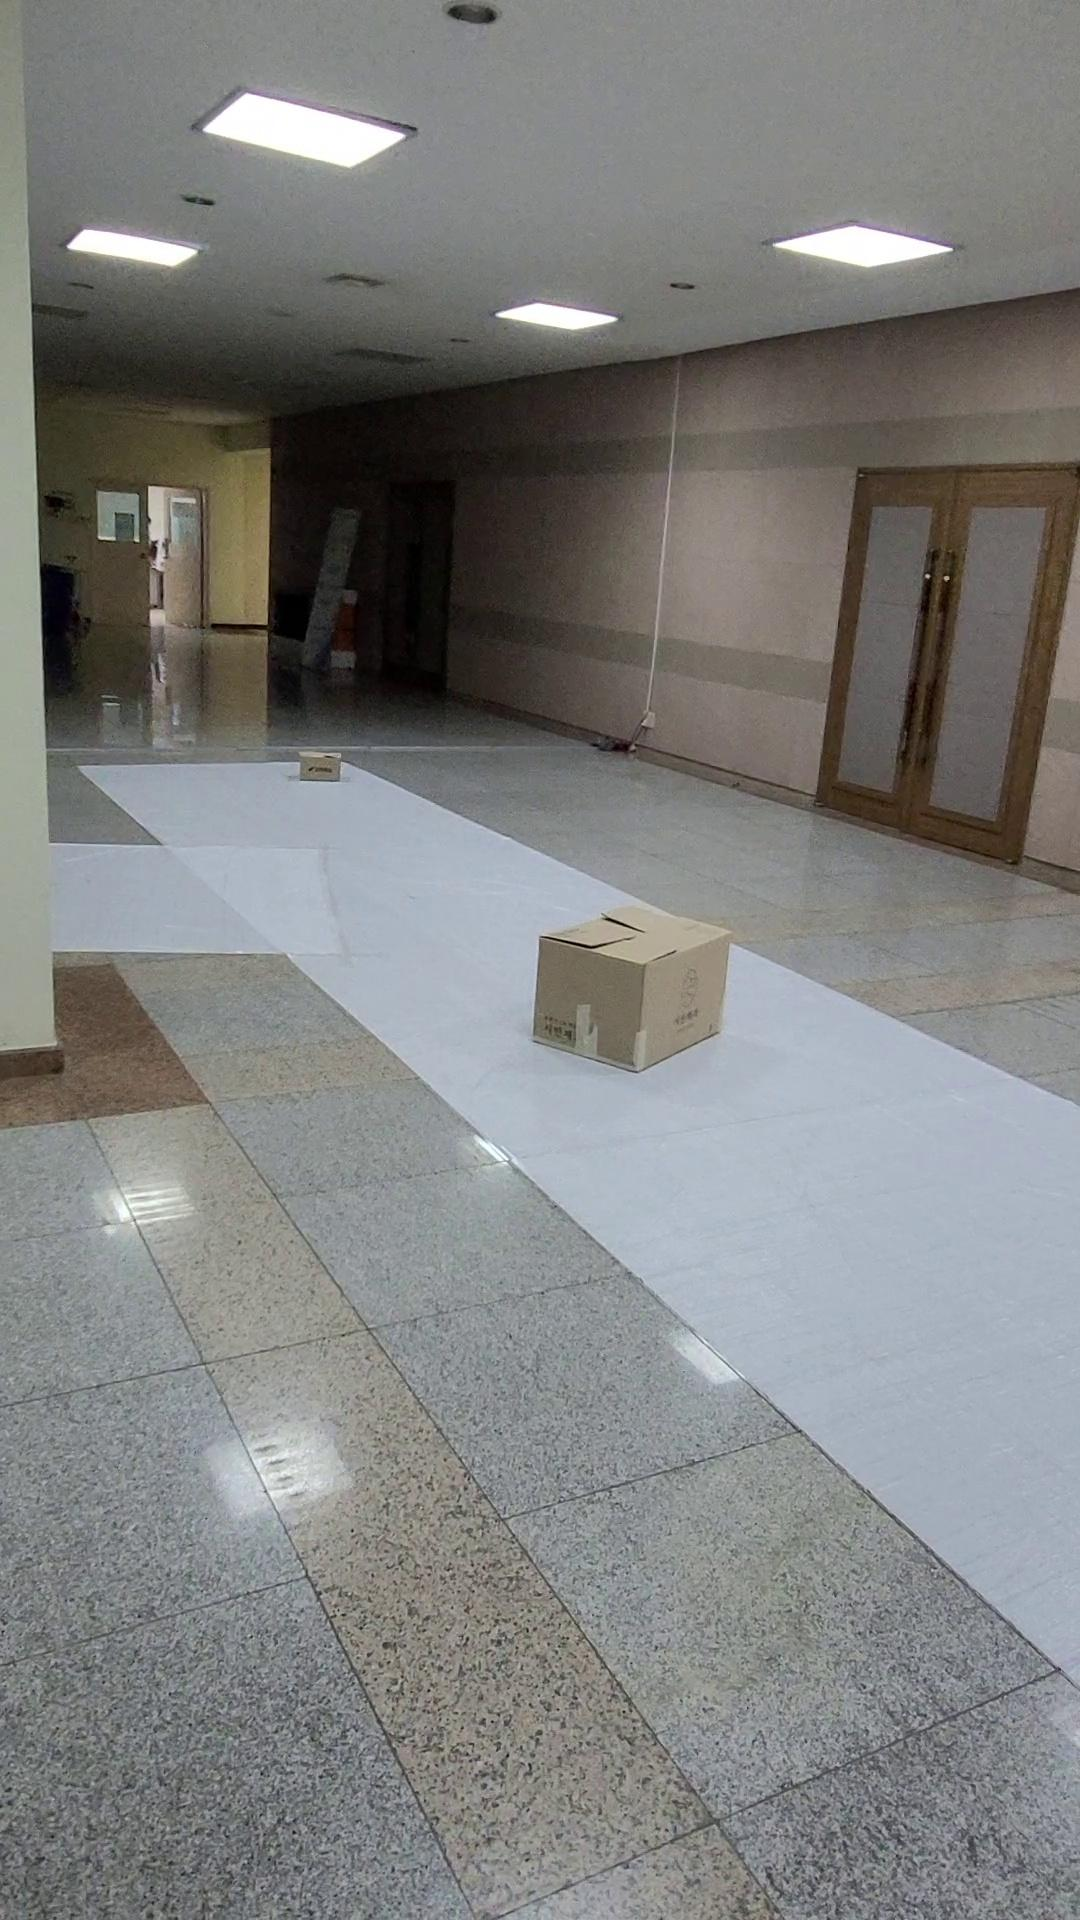Box: (513, 887, 767, 1113), (281, 733, 360, 798)
